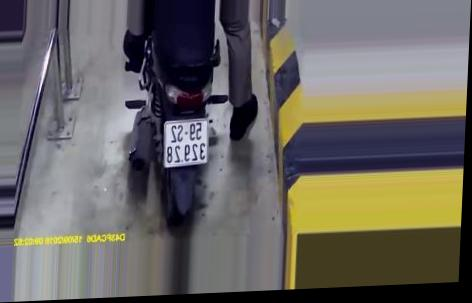License_Plate: (156, 114, 213, 171)
